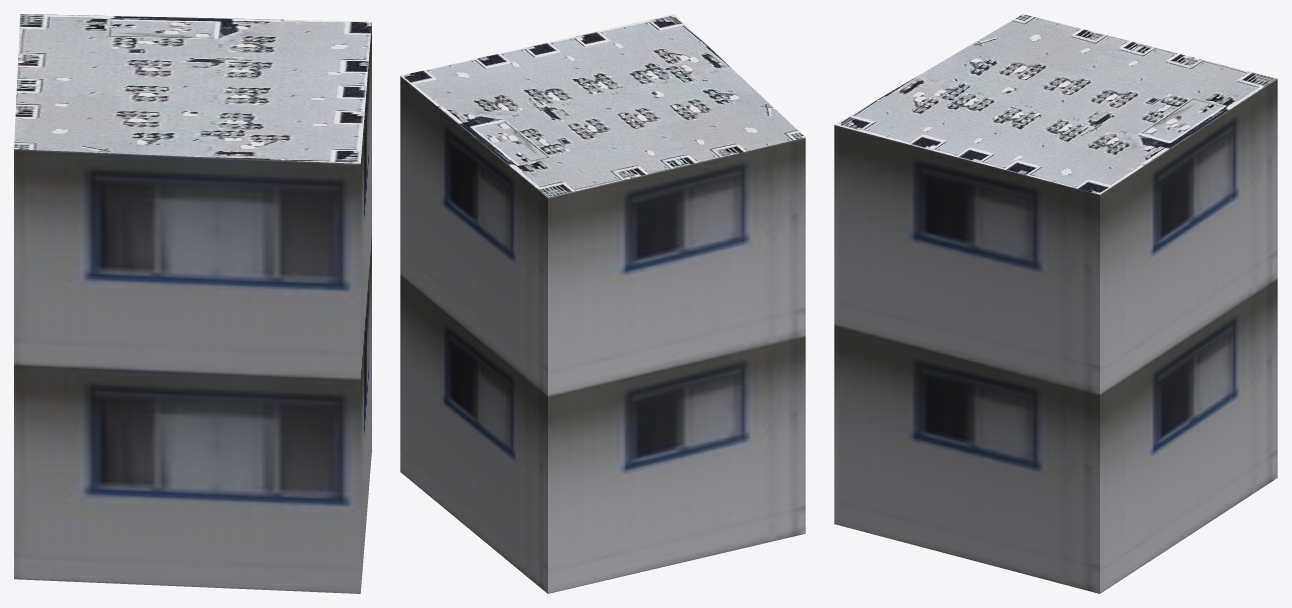
File: ResTex__4293.fbx
3 views of the same model, side by side, from view 1: azimuth 30°, elevation 25°; view 2: azimuth 150°, elevation 25°; view 3: azimuth 270°, elevation 25° (orthographic). The views are drawn at different scales.
Visible parts, largest first — view 1: CityEngineMaterial_9_m, CityEngineMaterial_8_m; view 2: CityEngineMaterial_9_m, CityEngineMaterial_8_m; view 3: CityEngineMaterial_9_m, CityEngineMaterial_8_m.
Boxes of the visible parts, box(x1,y1,x2,y2) form: CityEngineMaterial_9_m: box(14, 22, 371, 593); CityEngineMaterial_8_m: box(14, 14, 371, 163); CityEngineMaterial_9_m: box(400, 76, 805, 593); CityEngineMaterial_8_m: box(400, 14, 805, 197); CityEngineMaterial_9_m: box(834, 79, 1277, 593); CityEngineMaterial_8_m: box(835, 14, 1276, 194).
Bounding box in the file's own units: 5.83 × 6 × 6.04.
2 materials, 2 textured.
